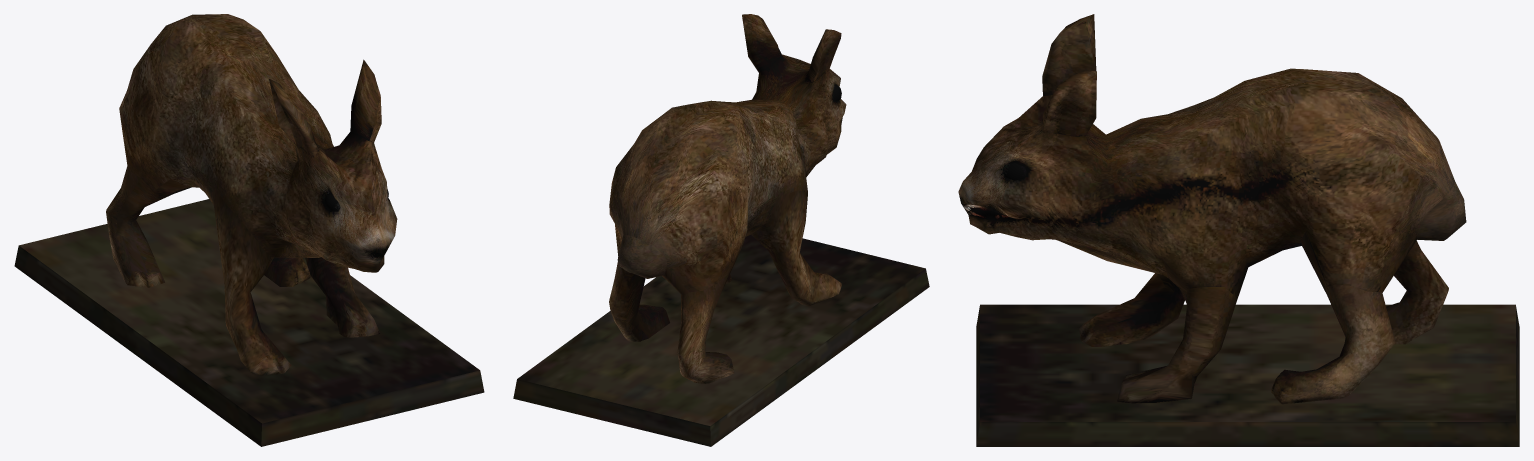
Rendered from stuffed_rabbit.dae.
3 renders of one model, left to right at view 1: azimuth 30°, elevation 25°; view 2: azimuth 150°, elevation 25°; view 3: azimuth 270°, elevation 25°, orthographic. The views are drawn at different scales.
Parts seen in each view (by area): view 1: polySurface13; view 2: polySurface13; view 3: polySurface13.
Part boxes in pixels (x1,y1,x2,y2): polySurface13: [14, 14, 484, 446]; polySurface13: [513, 14, 929, 446]; polySurface13: [958, 14, 1519, 446].
Bounding box in the file's own units: 0.3385 × 0.4555 × 0.6696.
